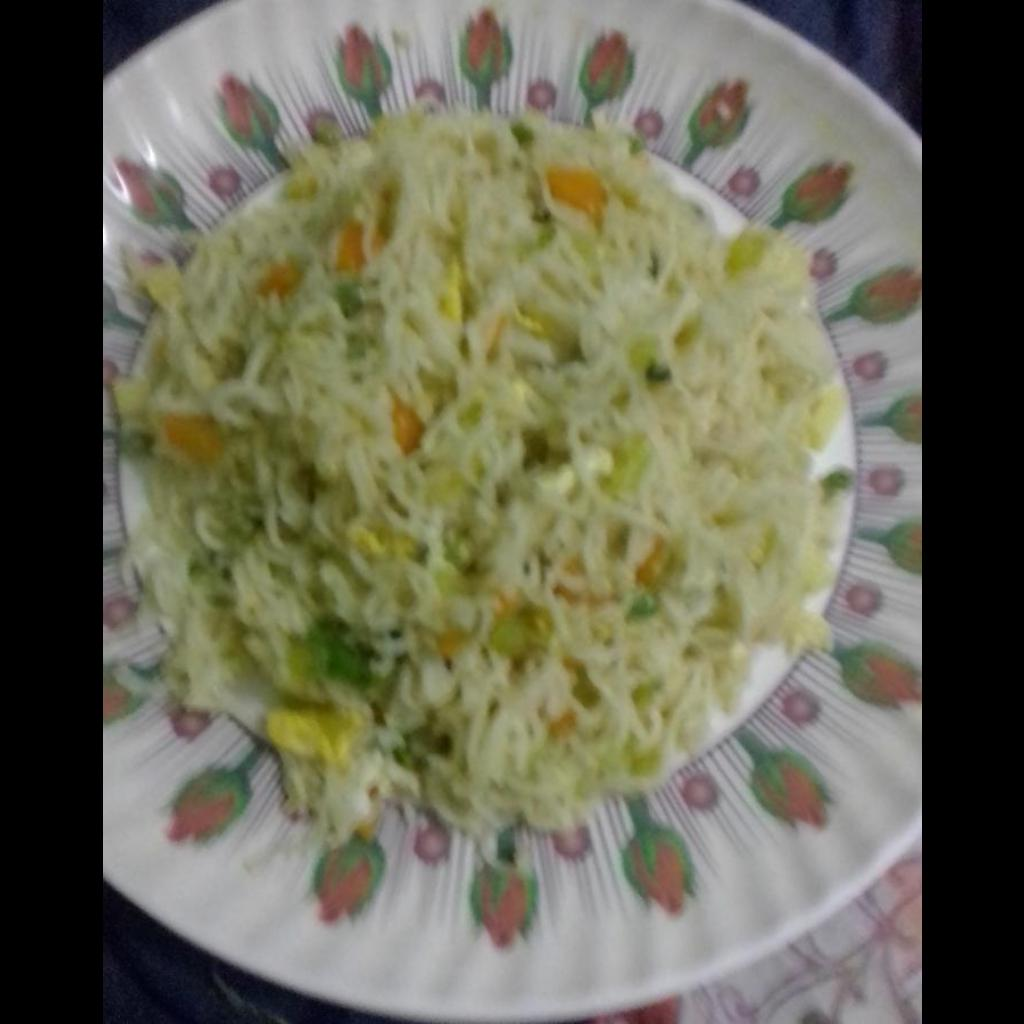noodles: (131, 111, 835, 845)
